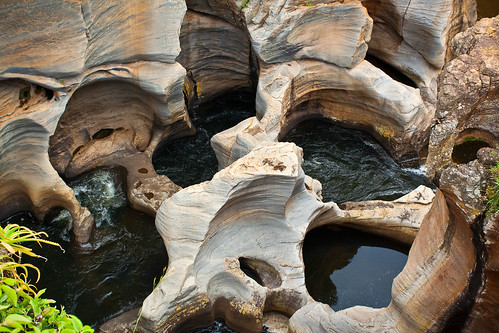rocks: (25, 1, 499, 322)
